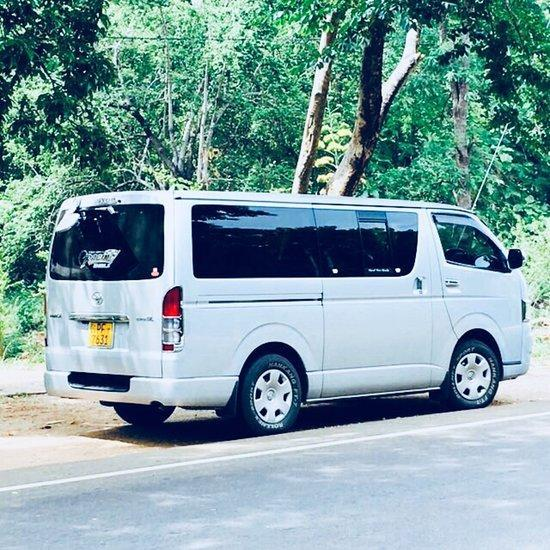car: (41, 182, 531, 439)
